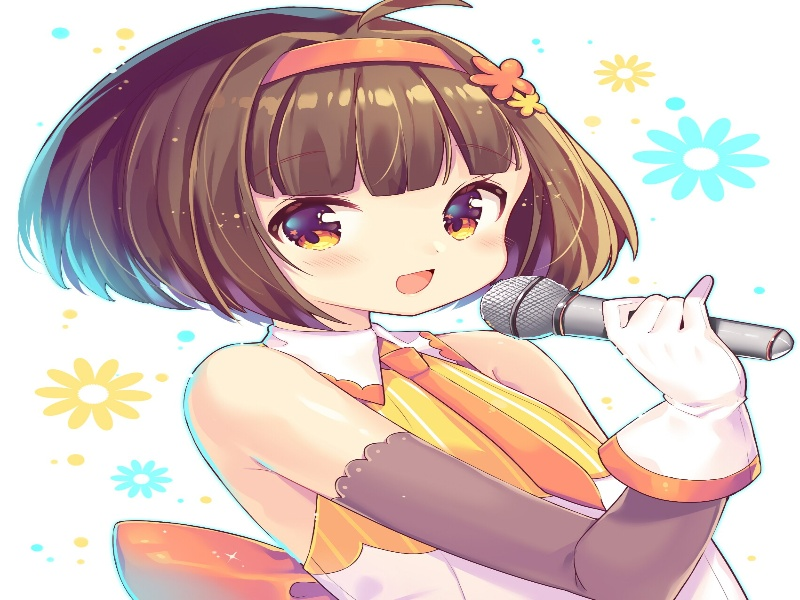flower: (621, 115, 779, 205), (31, 355, 157, 439), (470, 54, 535, 103), (594, 51, 662, 97), (107, 458, 175, 499), (500, 86, 548, 118)
micro: (480, 269, 798, 369)
person: (153, 46, 549, 344)
